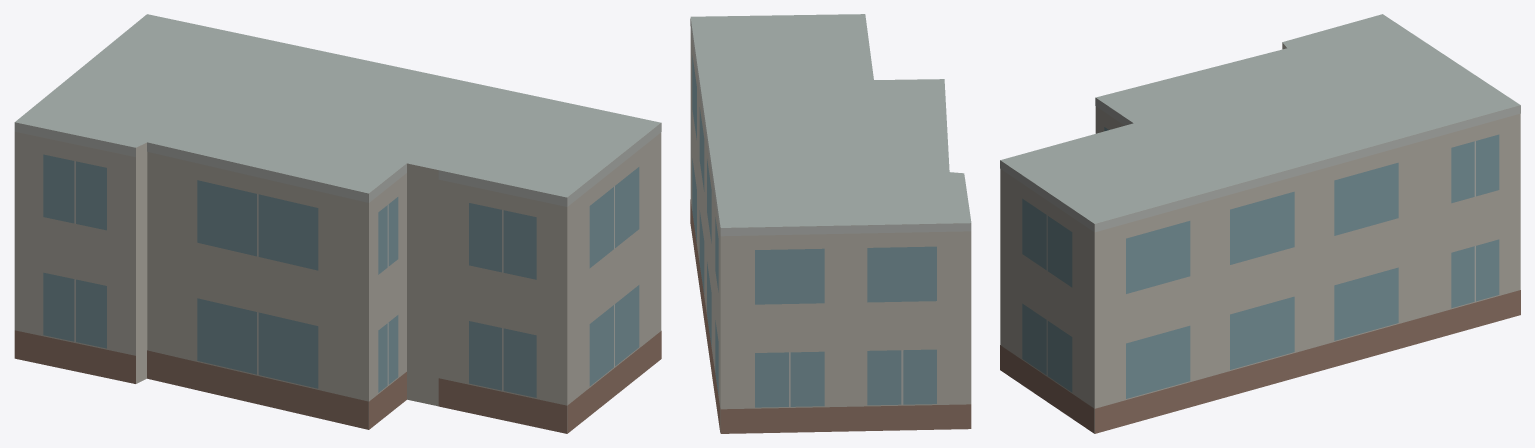
The model's file is survey-upis-32753114.glb.
The picture shows the model from 3 angles, left to right: view 1: azimuth 30°, elevation 25°; view 2: azimuth 150°, elevation 25°; view 3: azimuth 270°, elevation 25°; orthographic projection. The views are drawn at different scales.
Parts seen in each view (by area): view 1: survey-upis-32753114.tmp; view 2: survey-upis-32753114.tmp; view 3: survey-upis-32753114.tmp.
Part boxes in pixels (<box>): survey-upis-32753114.tmp: <box>14,14,661,433</box>; survey-upis-32753114.tmp: <box>690,14,971,433</box>; survey-upis-32753114.tmp: <box>1000,14,1520,433</box>.
Bounding box in the file's own units: 13.1 × 6.1 × 13.73.
